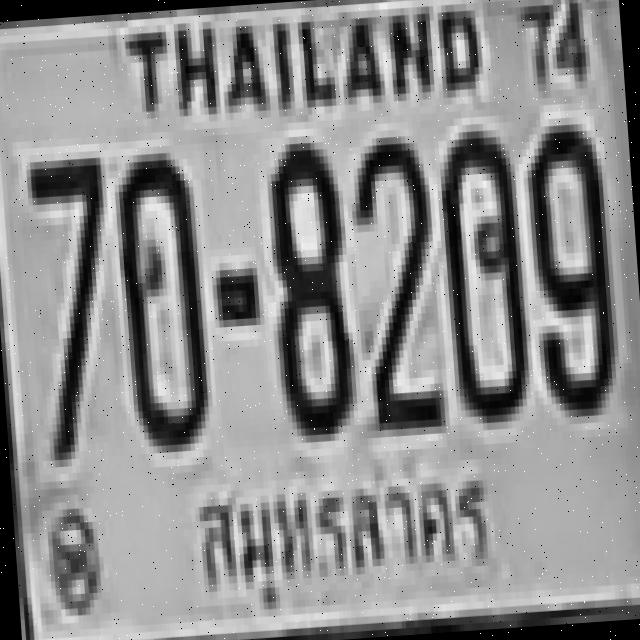0: (112, 144, 206, 447), (432, 125, 528, 421)
2: (346, 132, 442, 428)
7: (26, 150, 116, 460)
8: (258, 138, 352, 434)
9: (521, 116, 616, 412)
SamutSakhon: (182, 460, 506, 622)
